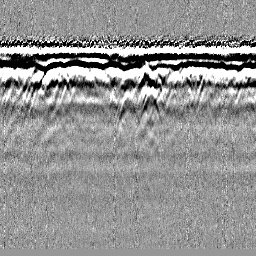cavity: (115, 89, 140, 132)
